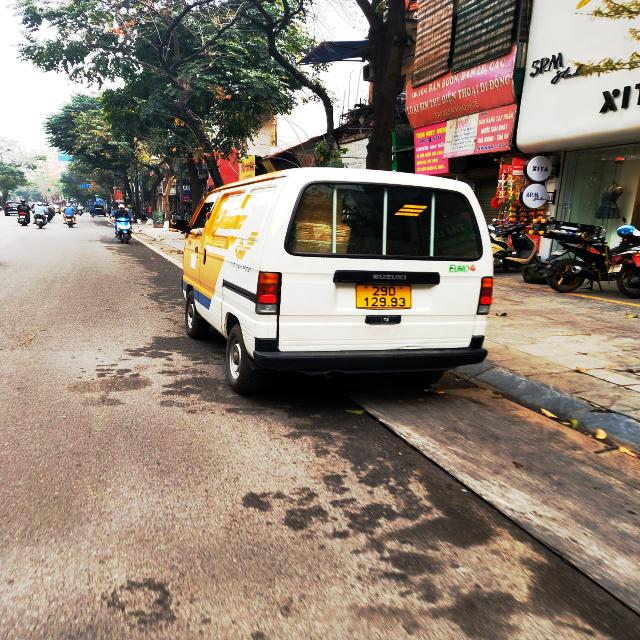license_plate: (357, 284, 413, 310)
